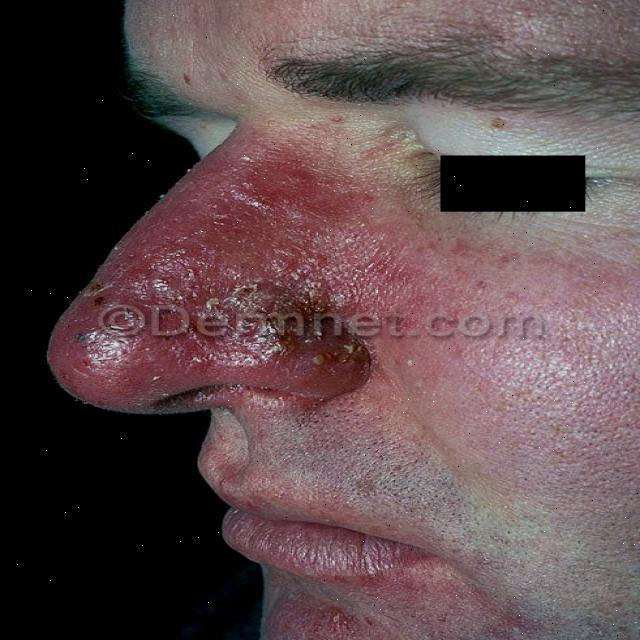images: (42, 0, 639, 639)
